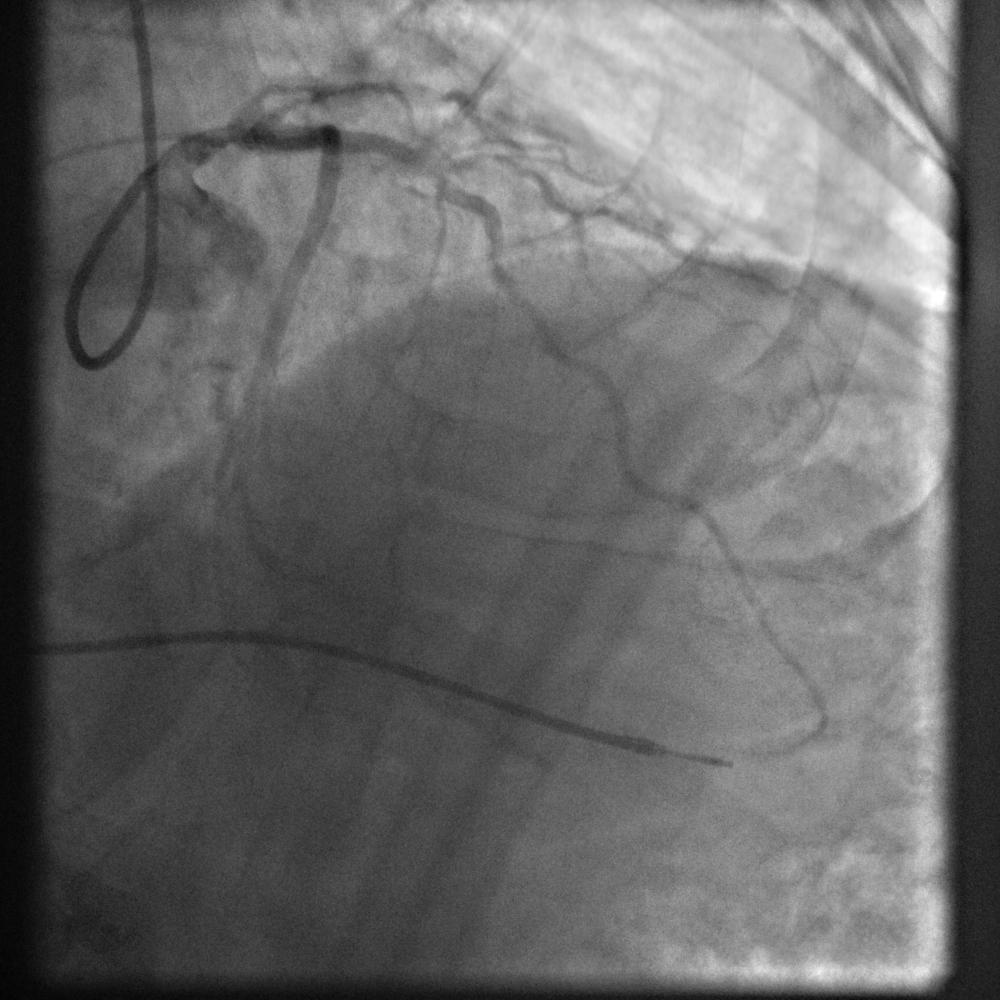Stenosis: (388, 137, 460, 180)
